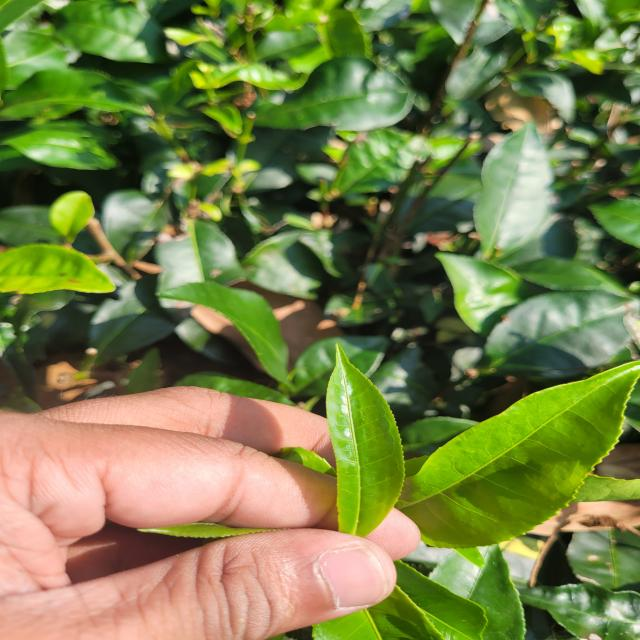Catagory A 1-2 days: (312, 336, 424, 543)
